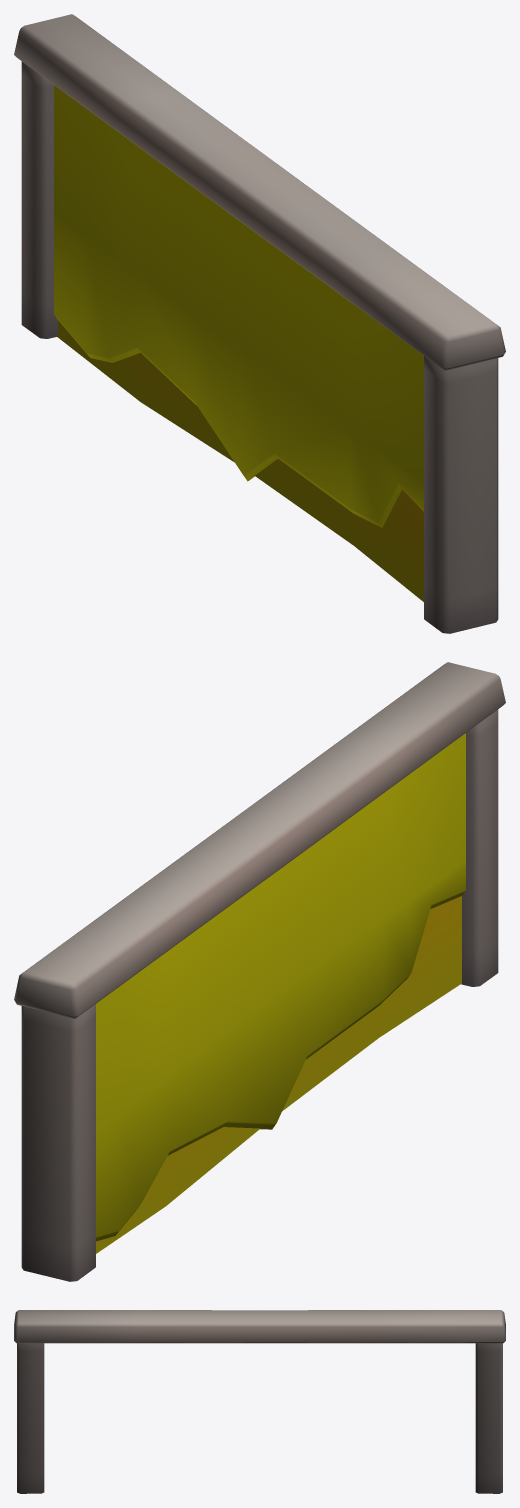
File: PlasteredWall02.glb
The picture shows the model from 3 angles, top to bottom: view 1: azimuth 30°, elevation 25°; view 2: azimuth 150°, elevation 25°; view 3: azimuth 270°, elevation 25°; orthographic projection. The views are drawn at different scales.
Visible parts, largest first — view 1: PlasteredWall02; view 2: PlasteredWall02; view 3: PlasteredWall02.
Boxes of the visible parts, x1,y1,x2,y2 form: PlasteredWall02: [14, 14, 505, 633]; PlasteredWall02: [14, 662, 505, 1281]; PlasteredWall02: [14, 1310, 505, 1493].
Bounding box in the file's own units: 0.7885 × 3.54 × 9.12.
3 materials, 2 textured.
